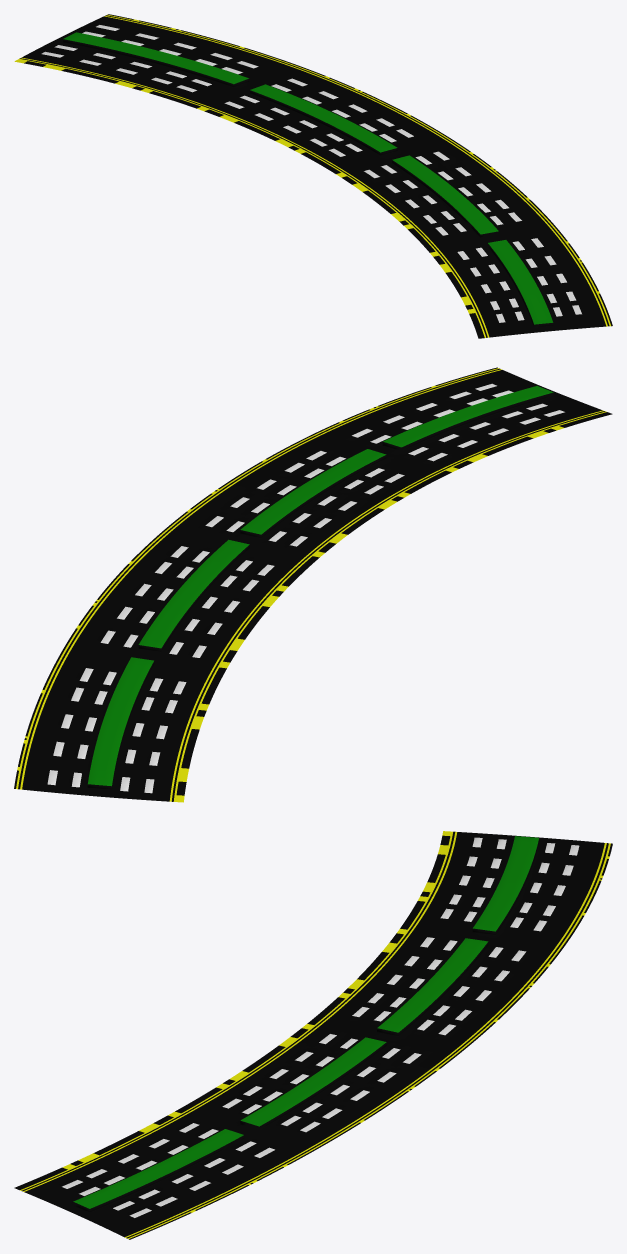
File: road_1(curved).fbx
3 views of the same model, one above another, from view 1: azimuth 30°, elevation 25°; view 2: azimuth 150°, elevation 25°; view 3: azimuth 330°, elevation 25° (orthographic). The views are drawn at different scales.
Visible parts, largest first — view 1: Plane.003; view 2: Plane.003; view 3: Plane.003.
Part boxes in pixels (x1,y1,x2,y2): Plane.003: (14, 14, 612, 338); Plane.003: (14, 367, 612, 802); Plane.003: (14, 831, 612, 1239).
Bounding box in the file's own units: 4053 × 447 × 14084.
